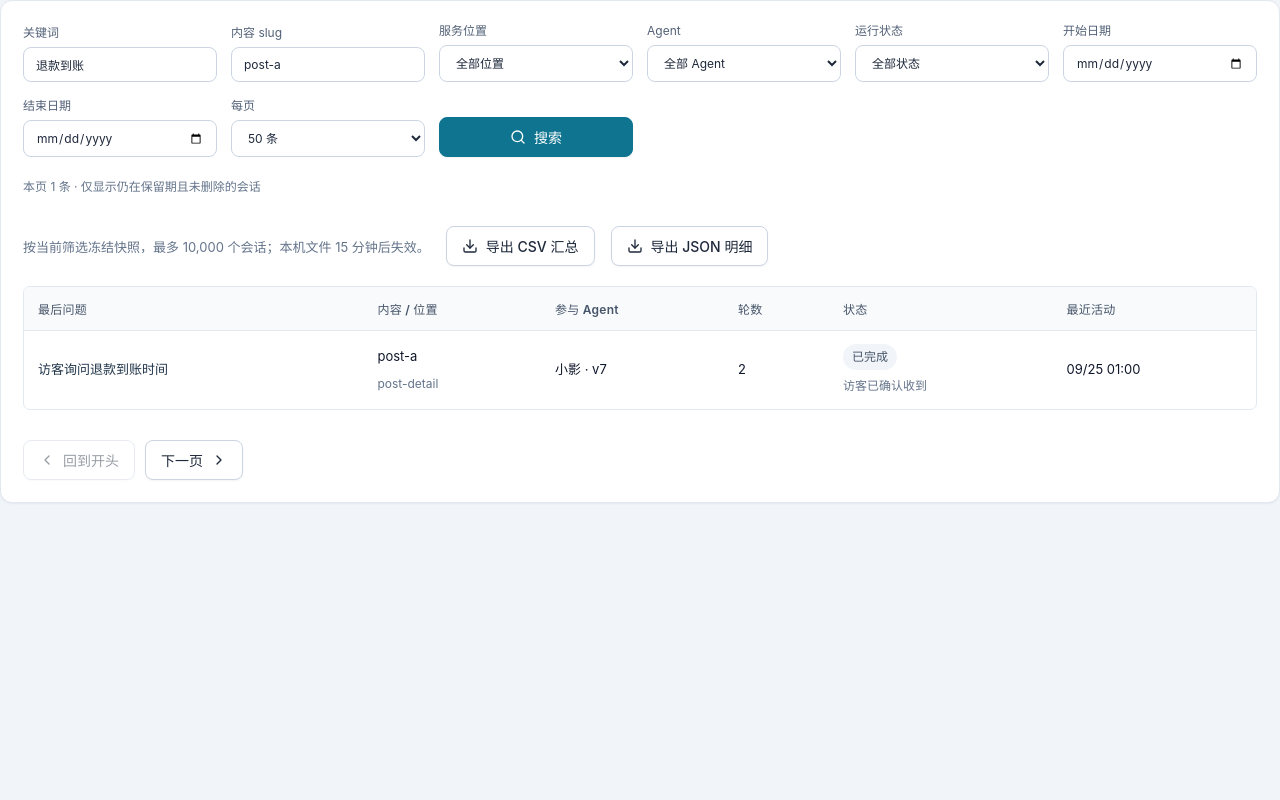
Test: V20 conversation log UI › creates an export from the current filters and shows its frozen fields and expiry
The image size is (1280, 800).
Click the button "导出 CSV 汇总" at {"x": 520, "y": 246}, box [446,226,594,266]
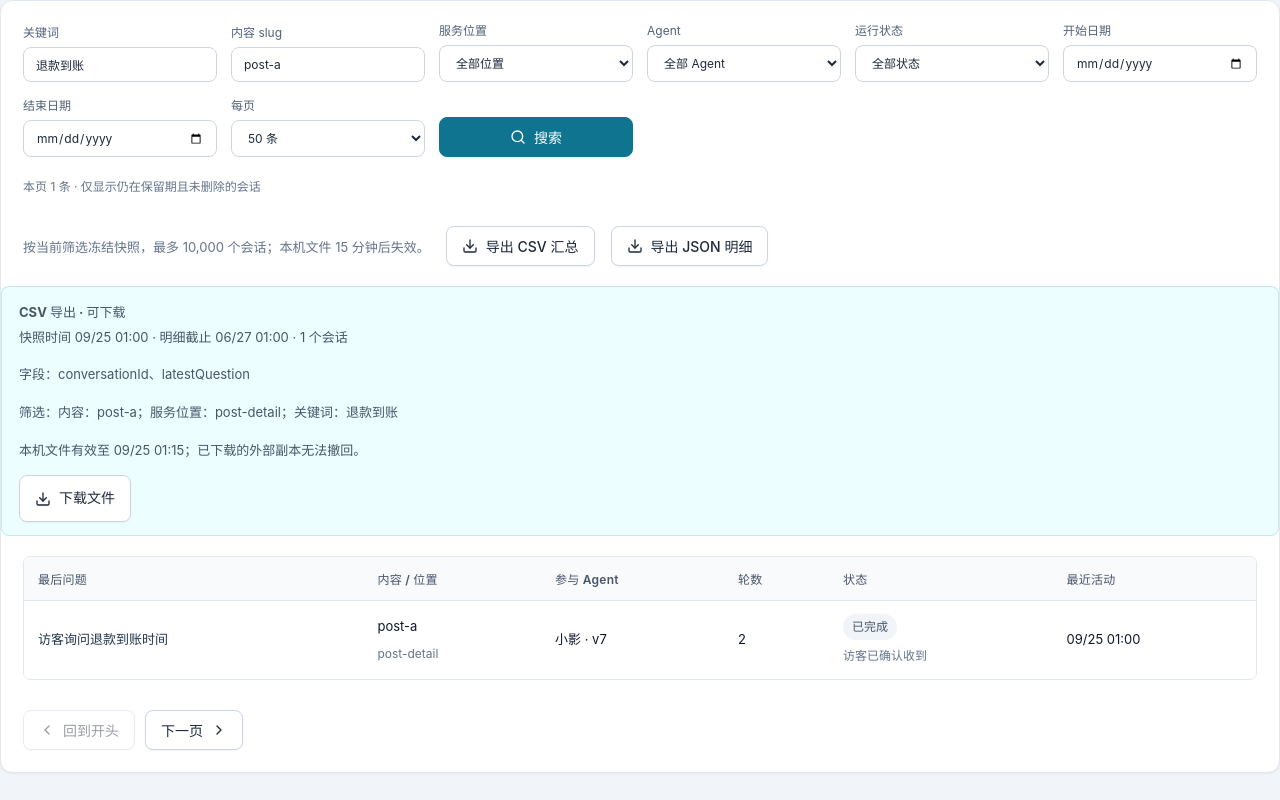
Check: the text "CSV 导出 · 可下载" is shown, box [19,304,125,320]
Check: the text "字段：conversationId、latestQuestion" is shown, box [19,366,250,382]
Check: the text "本机文件有效至 09/25 01:15；已下载的外部副本无法撤回。" is shown, box [19,442,366,458]
